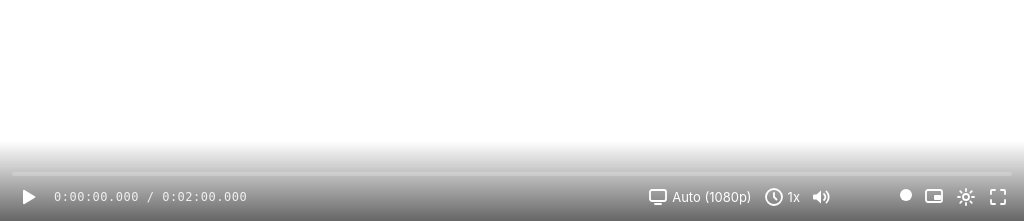
Test case: VideoControls › quality selector › opens quality popup on click
Click the button "Auto (1080p)" at (700, 197), box [644,183,756,211]
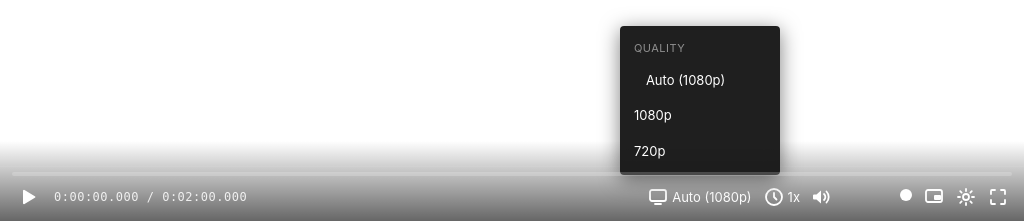
Check: the text "Quality" is shown, box [634,41,685,55]
Check: the text "720p" is shown, box [634,142,665,158]
